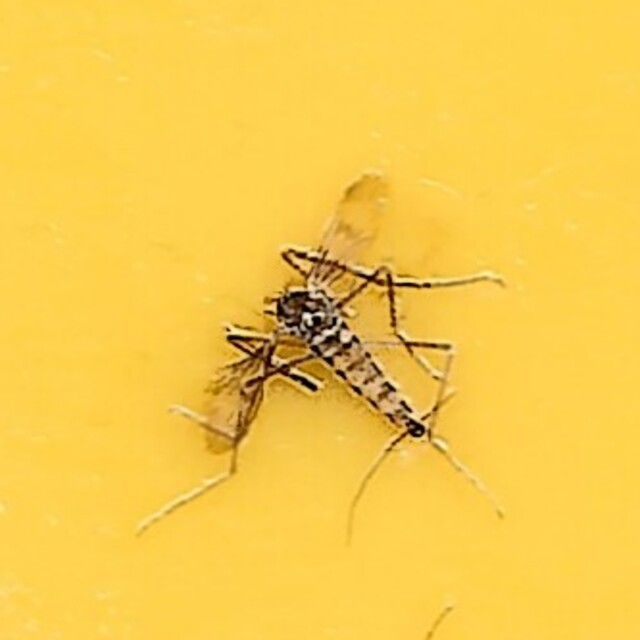Nematocera: (192, 173, 448, 467)
